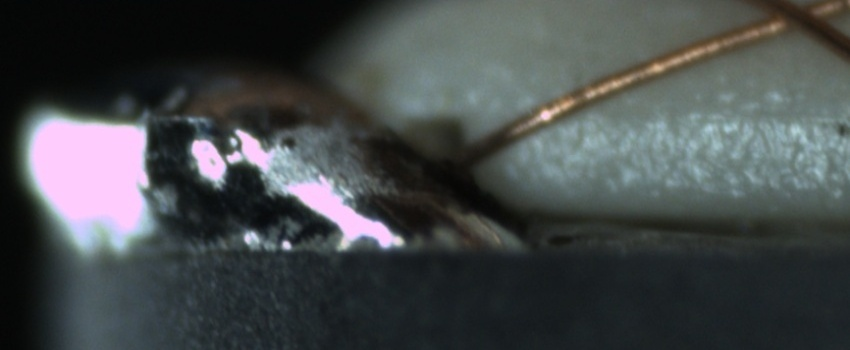CL: (737, 0, 846, 42)
DL: (609, 78, 846, 147)
